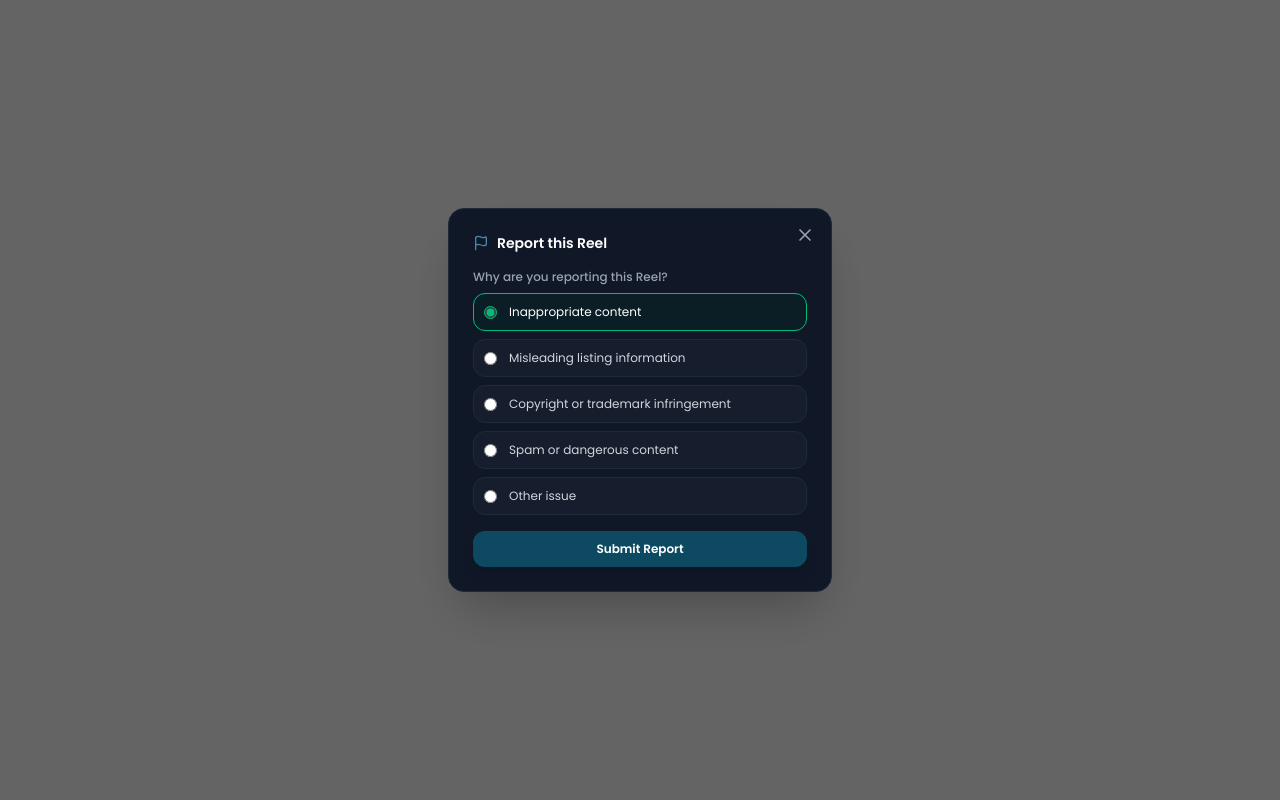
Test case: Phase 11 — Reel Moderation & Safety Frontend Suite › Reel Report Modal › displays error message if report submission fails
This screenshot has width=1280, height=800.
Click the button "Submit Report". click: {"x": 640, "y": 549}
box: [473,531,807,567]
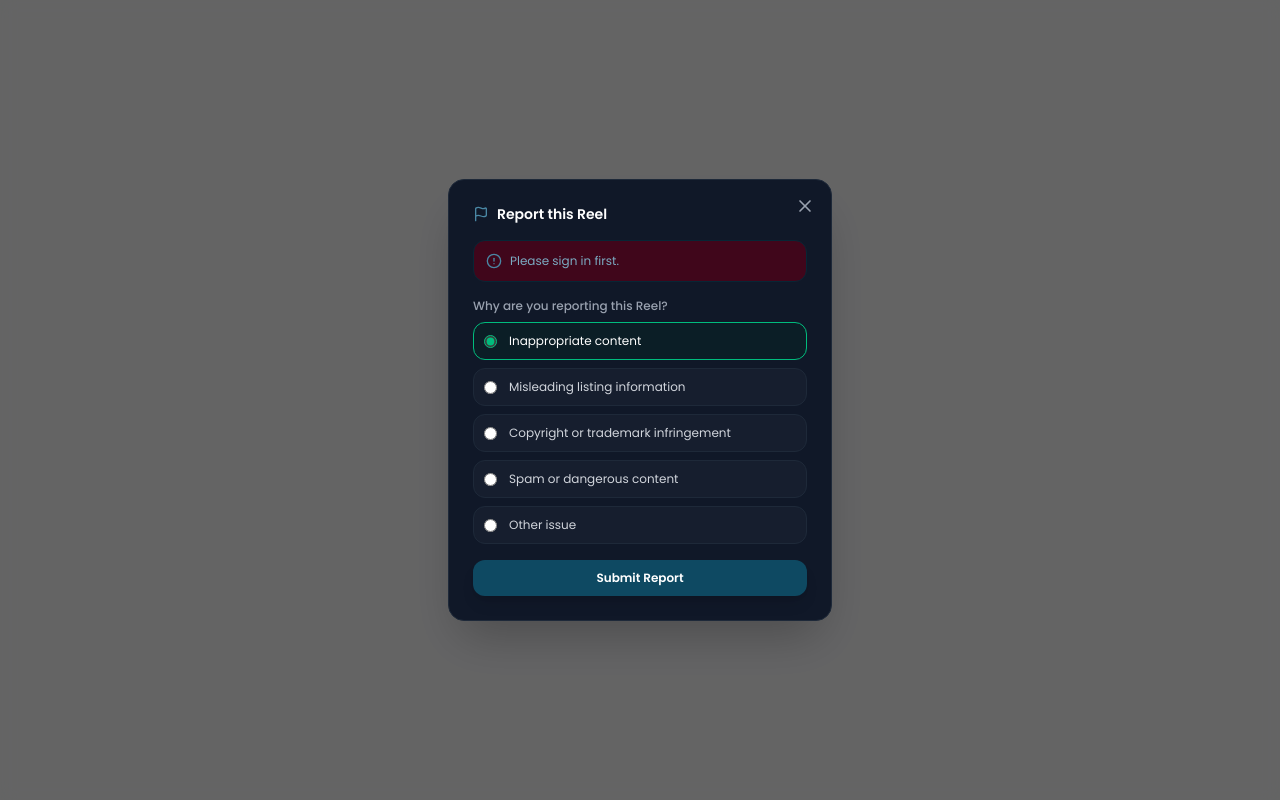
Now the text "Please sign in first." is shown, box [510,253,619,269]
